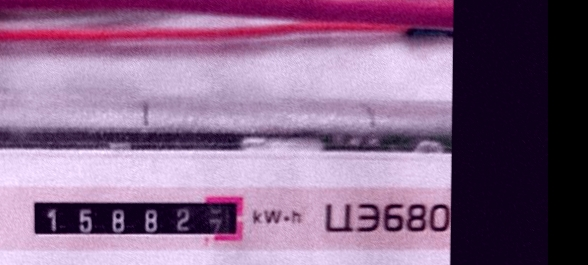1: (46, 207, 60, 232)
2: (176, 206, 191, 231)
5: (78, 206, 94, 232)
7: (209, 215, 223, 234)
8: (111, 208, 127, 234), (144, 207, 159, 232)
screen: (19, 185, 253, 251)
